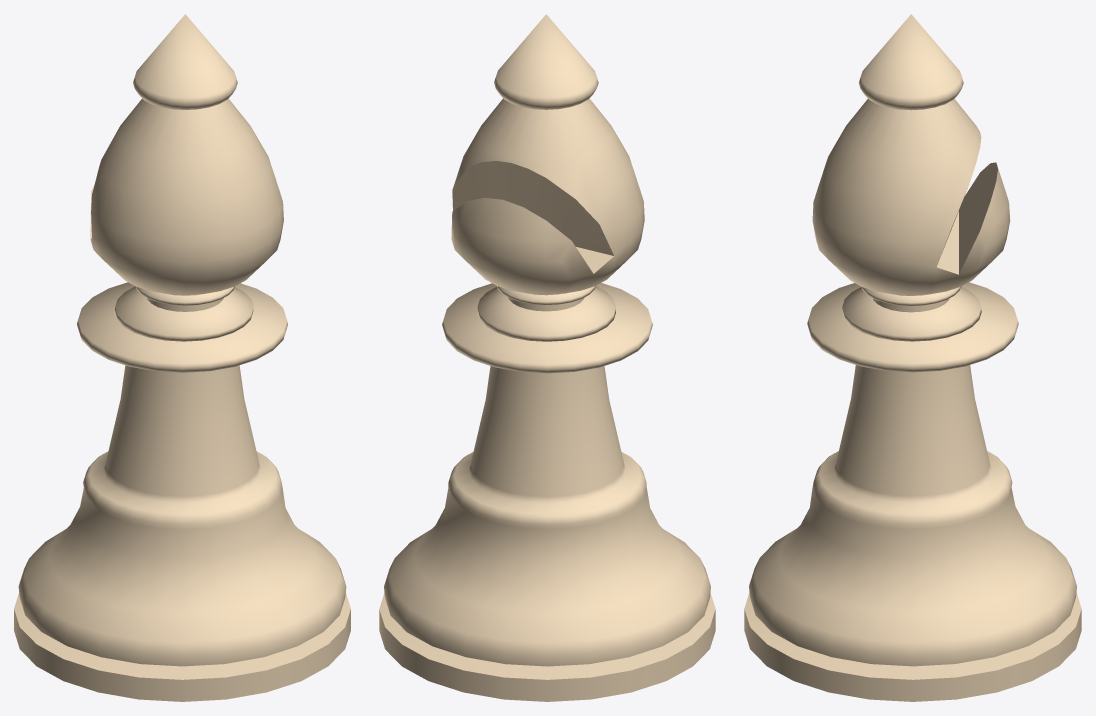
The model's file is New Bishop.glb.
3 views of the same model, side by side, from view 1: azimuth 30°, elevation 25°; view 2: azimuth 150°, elevation 25°; view 3: azimuth 270°, elevation 25° (orthographic).
Visible parts, largest first — view 1: Bishop; view 2: Bishop; view 3: Bishop.
Part boxes in pixels (x1,y1,x2,y2): Bishop: (14, 14, 350, 701); Bishop: (379, 14, 715, 701); Bishop: (744, 14, 1081, 701).
Bounding box in the file's own units: 1.09 × 2.2 × 1.09.
